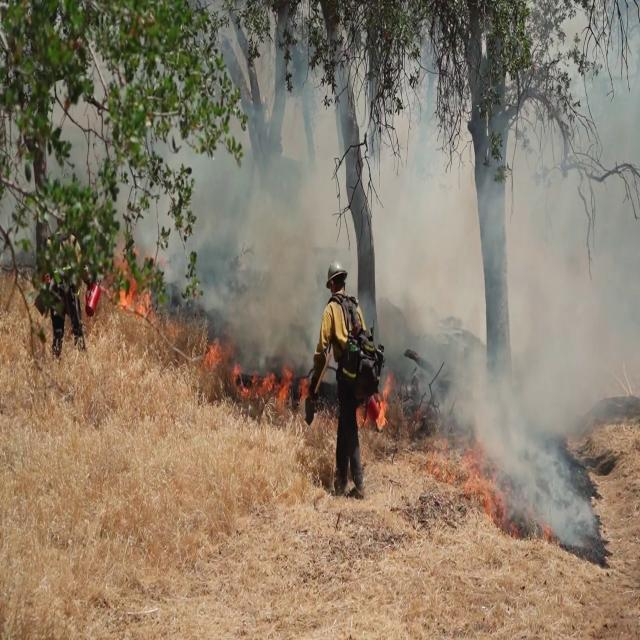Fire: (194, 336, 314, 402), (85, 260, 163, 322), (372, 364, 402, 432)
Smoke: (165, 44, 640, 354), (389, 56, 640, 536)
